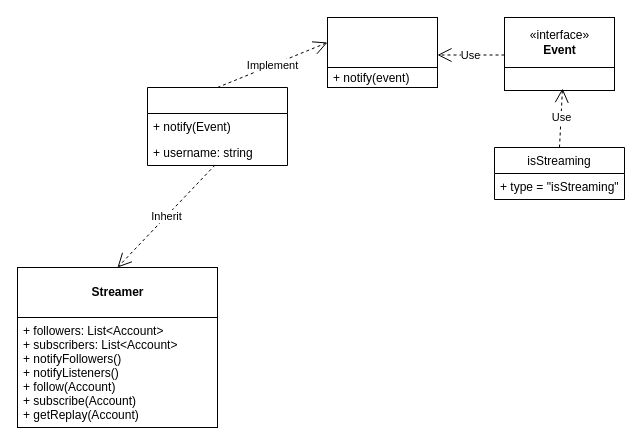
Image size: 642x448. Some labels were removed from this diagram. The box of each missing label's shape, as (x1, y1, x2, y2) in pixels:
+ type: (504, 66, 614, 90)
Account: (146, 86, 288, 166)
«interface» Observer: (326, 16, 438, 68)
